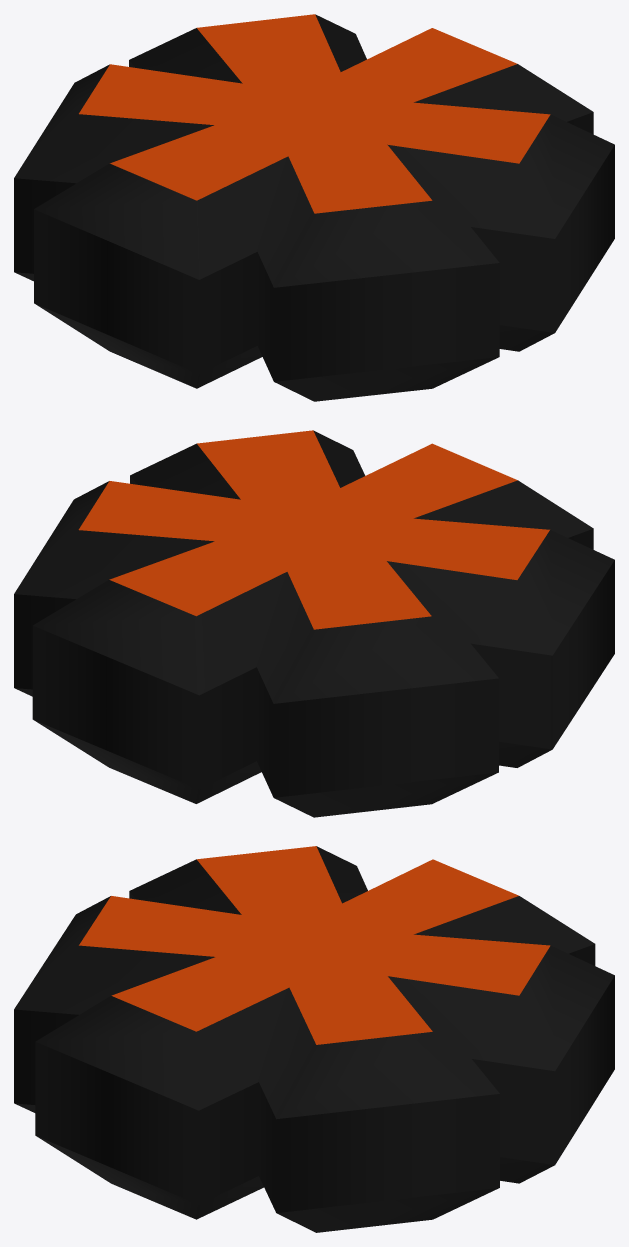
Rendered from Etoile.fbx.
The picture shows the model from 3 angles, top to bottom: view 1: azimuth 30°, elevation 25°; view 2: azimuth 150°, elevation 25°; view 3: azimuth 270°, elevation 25°; orthographic projection.
Visible parts, largest first — view 1: Text; view 2: Text; view 3: Text.
Part boxes in pixels (box(x1,y1,x2,y2)): Text: box(14, 14, 614, 401); Text: box(14, 430, 614, 817); Text: box(14, 846, 614, 1232).
Bounding box in the file's own units: 0.4626 × 0.16 × 0.4638.
